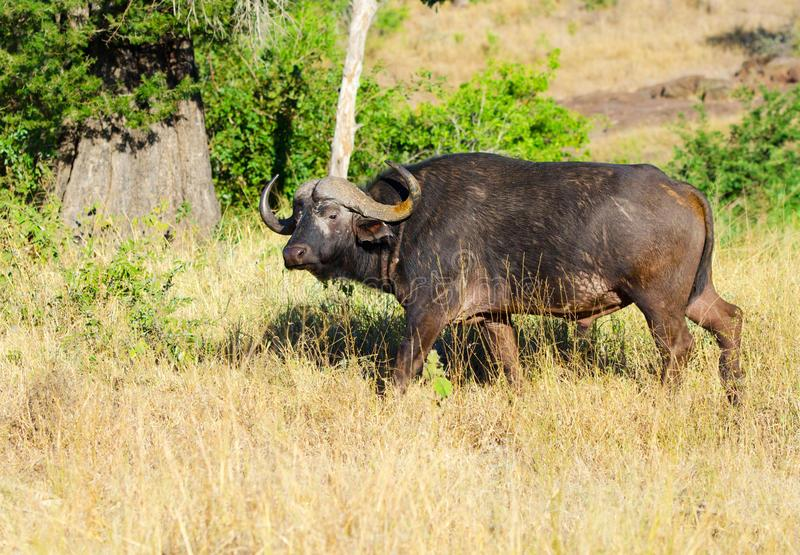Buffalo: (261, 128, 800, 483)
